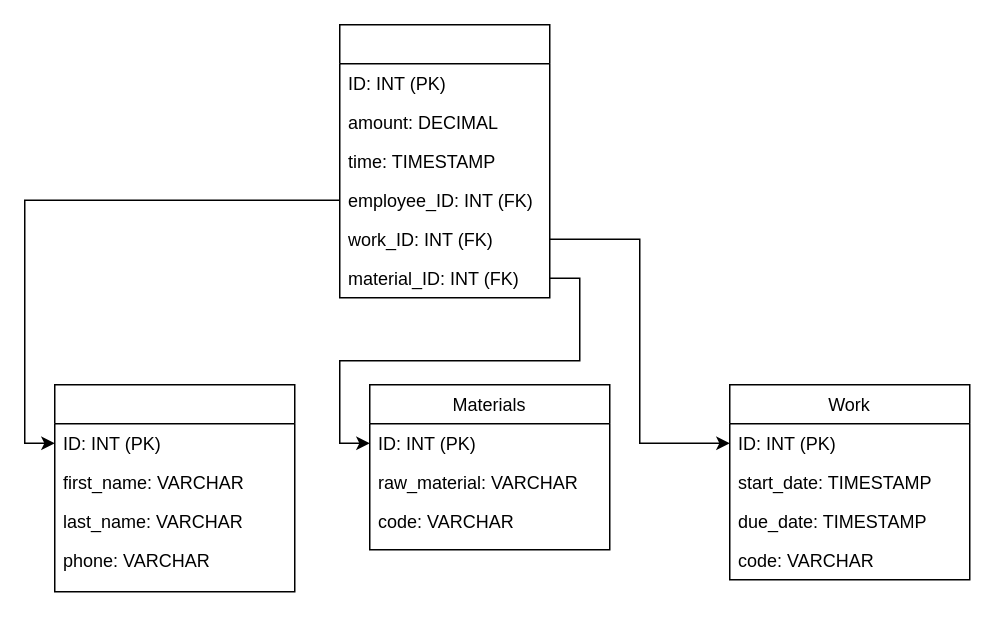
Image size: 995x617. Some labels were removed from this diagram. Here are the shapes that lost their labels. From the top down, the box of each, then its label:
(338, 23, 550, 298): Usage
(53, 383, 295, 592): Employees
